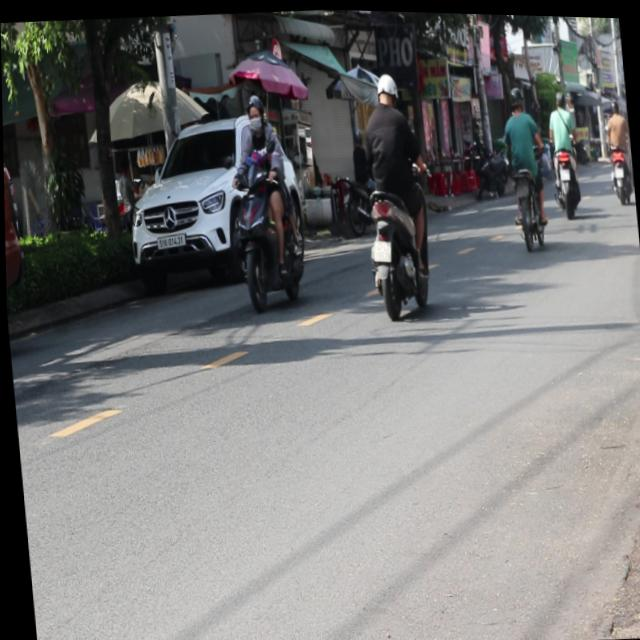helmet: (373, 68, 396, 104), (243, 90, 263, 127)
licenseplate: (214, 83, 310, 312), (350, 65, 436, 319)
nohelmet: (368, 235, 390, 259)
